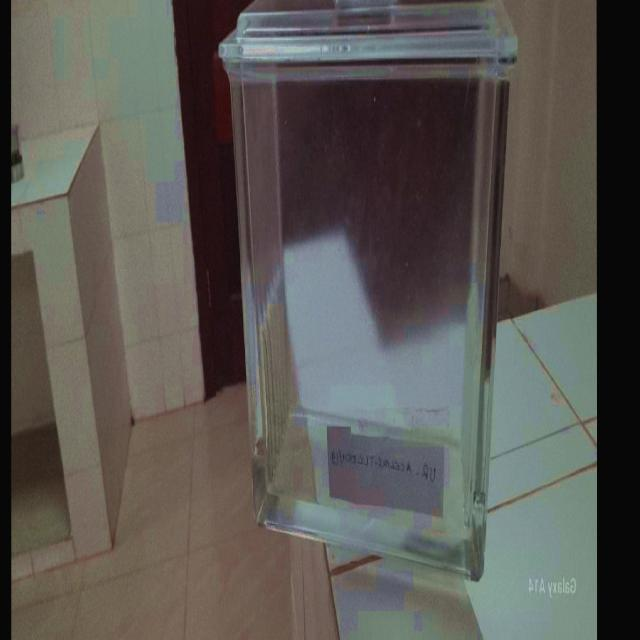TLC Tank: (222, 0, 528, 581)
